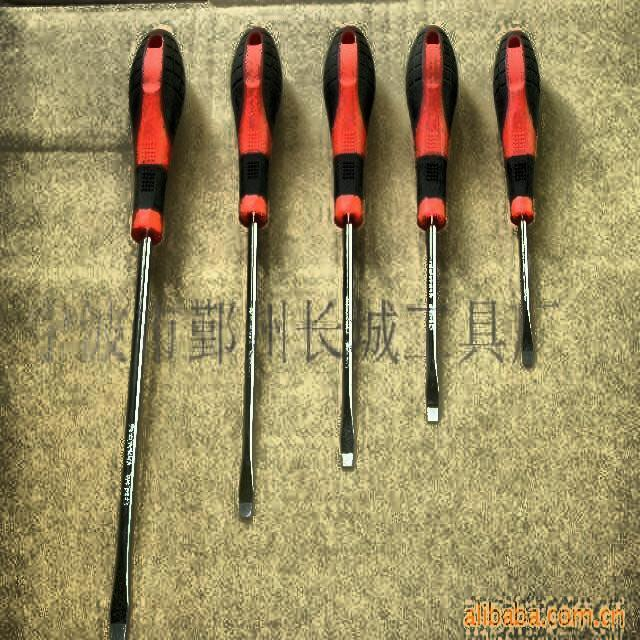screwdriver: (109, 28, 185, 640), (230, 25, 280, 518), (323, 26, 375, 468), (406, 26, 460, 422), (494, 31, 541, 367)
